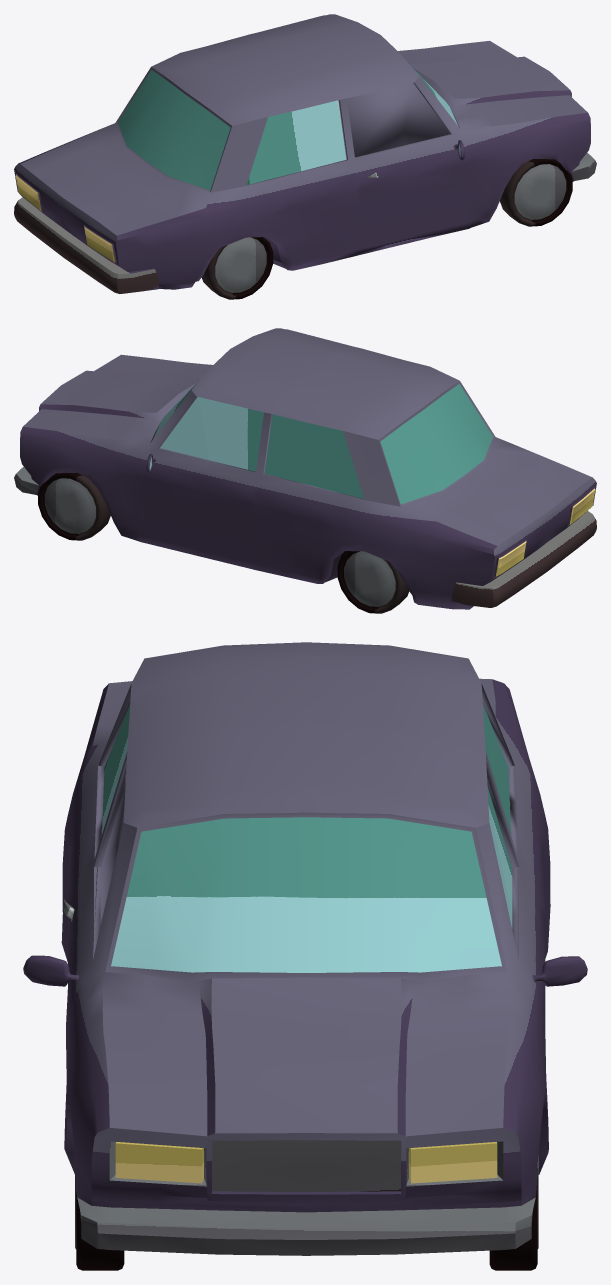
The model's file is CocheMorado(ProtaSINLAPUTAPUERTA).fbx.
3 renders of one model, top to bottom at view 1: azimuth 30°, elevation 25°; view 2: azimuth 150°, elevation 25°; view 3: azimuth 270°, elevation 25°, orthographic. The views are drawn at different scales.
Parts seen in each view (by area): view 1: CocheMoradoSinPuerta, COCHEMORAO, Puerta; view 2: CocheMoradoSinPuerta, COCHEMORAO; view 3: CocheMoradoSinPuerta, COCHEMORAO, Puerta.
Part boxes in pixels (x1,y1,x2,y2): CocheMoradoSinPuerta: [14, 14, 594, 299]; COCHEMORAO: [14, 14, 596, 299]; Puerta: [342, 76, 470, 236]; CocheMoradoSinPuerta: [16, 328, 596, 609]; COCHEMORAO: [14, 328, 596, 613]; CocheMoradoSinPuerta: [62, 642, 586, 1270]; COCHEMORAO: [24, 643, 587, 1269]; Puerta: [23, 774, 137, 1076].
Size of the model in its own units: 635 by 220 by 316.
